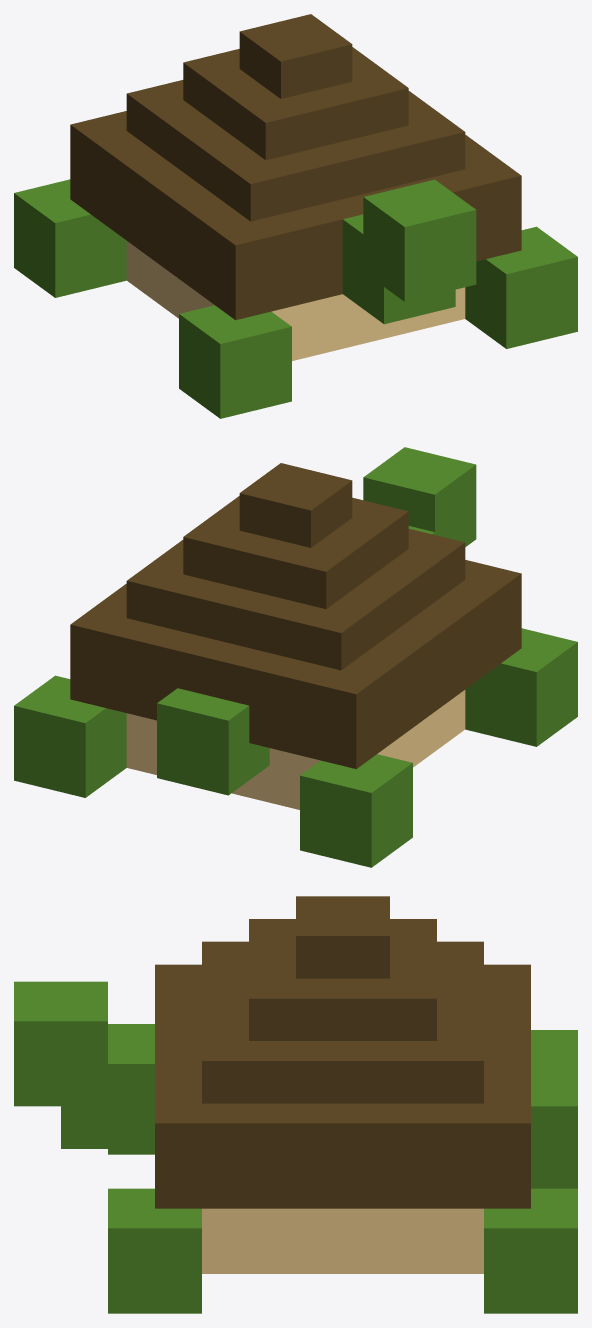
File: Background_C_deco_05.FBX
3 views of the same model, one above another, from view 1: azimuth 30°, elevation 25°; view 2: azimuth 150°, elevation 25°; view 3: azimuth 270°, elevation 25° (orthographic). The views are drawn at different scales.
Parts seen in each view (by area): view 1: Background_C-10; view 2: Background_C-10; view 3: Background_C-10.
Part boxes in pixels (x1,y1,x2,y2): Background_C-10: (14,14,577,418); Background_C-10: (14,447,577,867); Background_C-10: (14,896,577,1313).
Bounding box in the file's own units: 1 × 0.7 × 1.2.
1 material, 1 textured.
